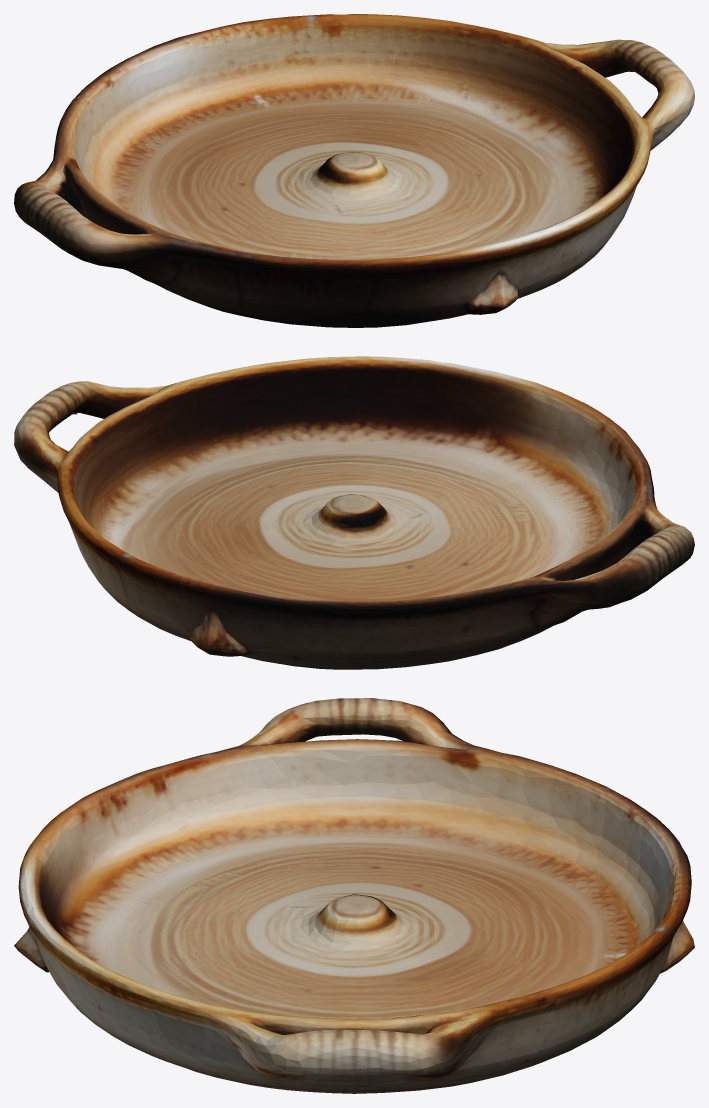
Rendered from ceramic-serving-dish-used-rustic-worn.jpeg.glb.
3 renders of one model, top to bottom at view 1: azimuth 30°, elevation 25°; view 2: azimuth 150°, elevation 25°; view 3: azimuth 270°, elevation 25°, orthographic. The views are drawn at different scales.
Visible parts, largest first — view 1: world; view 2: world; view 3: world.
Part boxes in pixels (left/top/right/bottom): world: left=14, top=14, right=694, bottom=327; world: left=14, top=356, right=694, bottom=669; world: left=14, top=698, right=694, bottom=1093.
Size of the model in its own units: 1 by 0.174 by 0.8218.
Materials: 1 (1 with a texture image).
